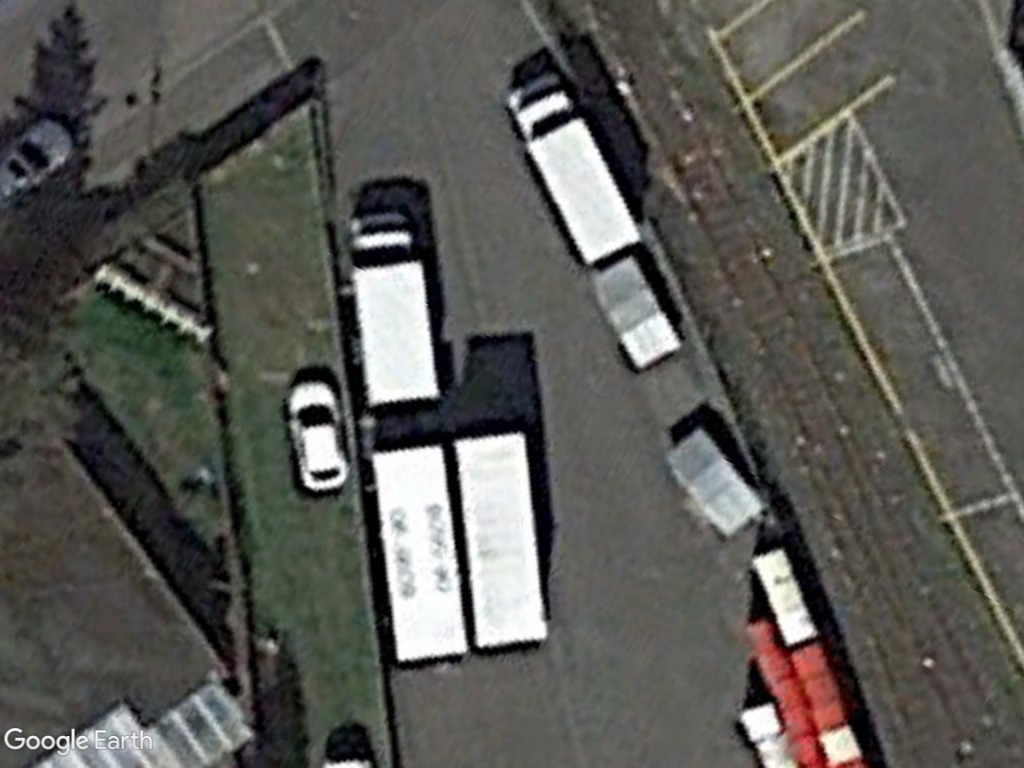car: (282, 376, 352, 498)
longvehicle: (368, 436, 473, 671), (449, 426, 554, 651)
truck: (504, 64, 642, 271), (341, 208, 444, 415)
